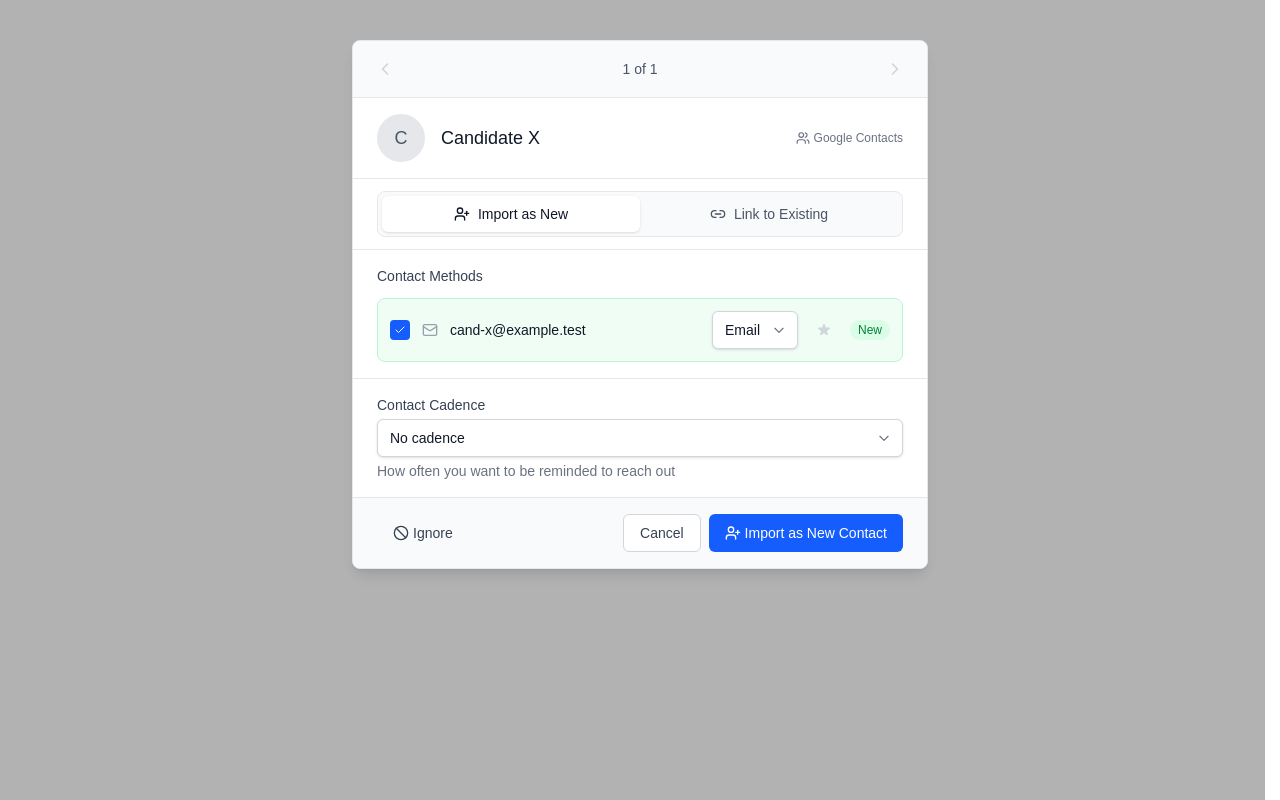
Scenario: ContactCandidateResolver candidate tracking › advances onto the fetched view when the resolve exhausts the page list
Expected: the heading "Candidate X" is shown, x1=441 y1=128 x2=540 y2=148
Click the button "Import as New Contact" at x=806, y=533, box x1=709 y1=514 x2=903 y2=552
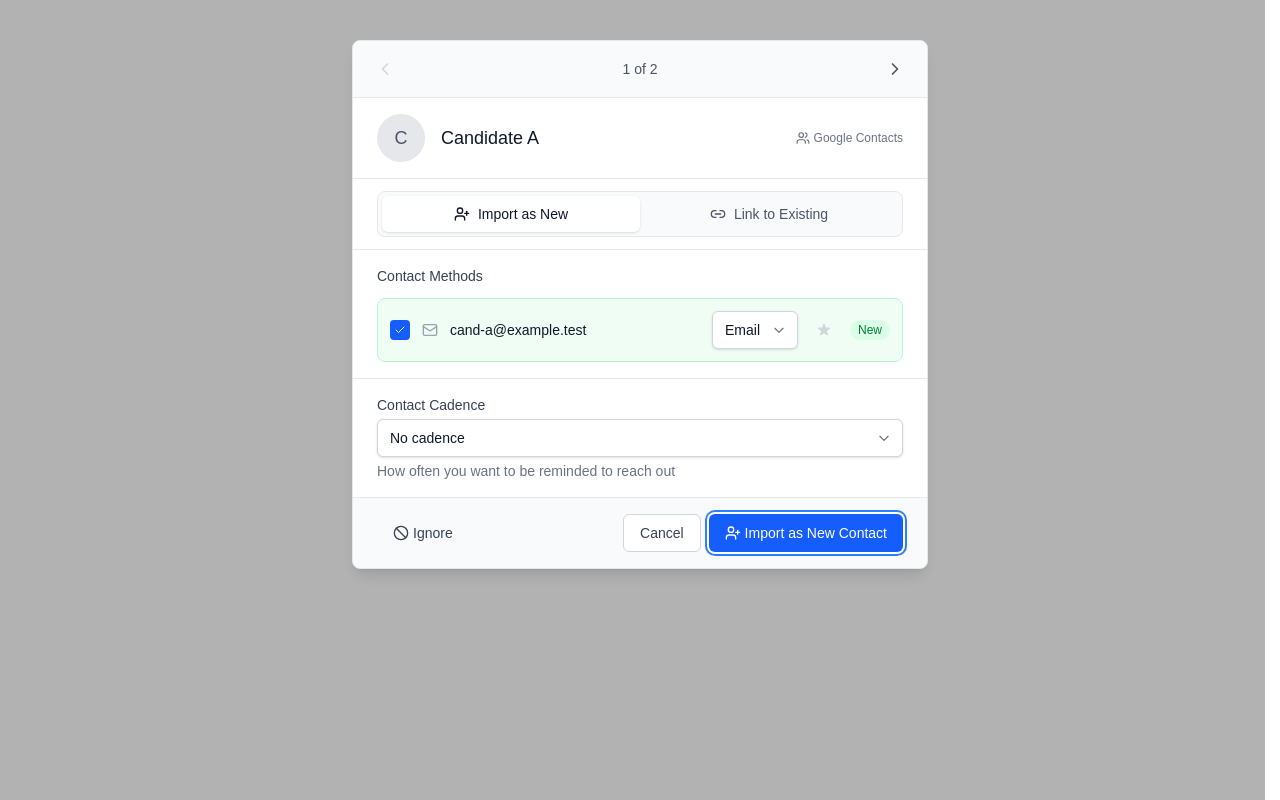
Expected: the heading "Candidate A" is shown, x1=441 y1=128 x2=539 y2=148
